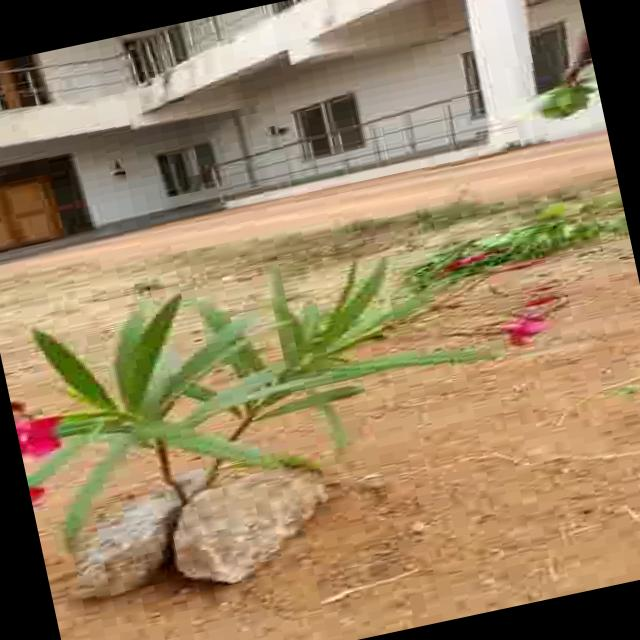Oleander: (0, 175, 484, 491)
